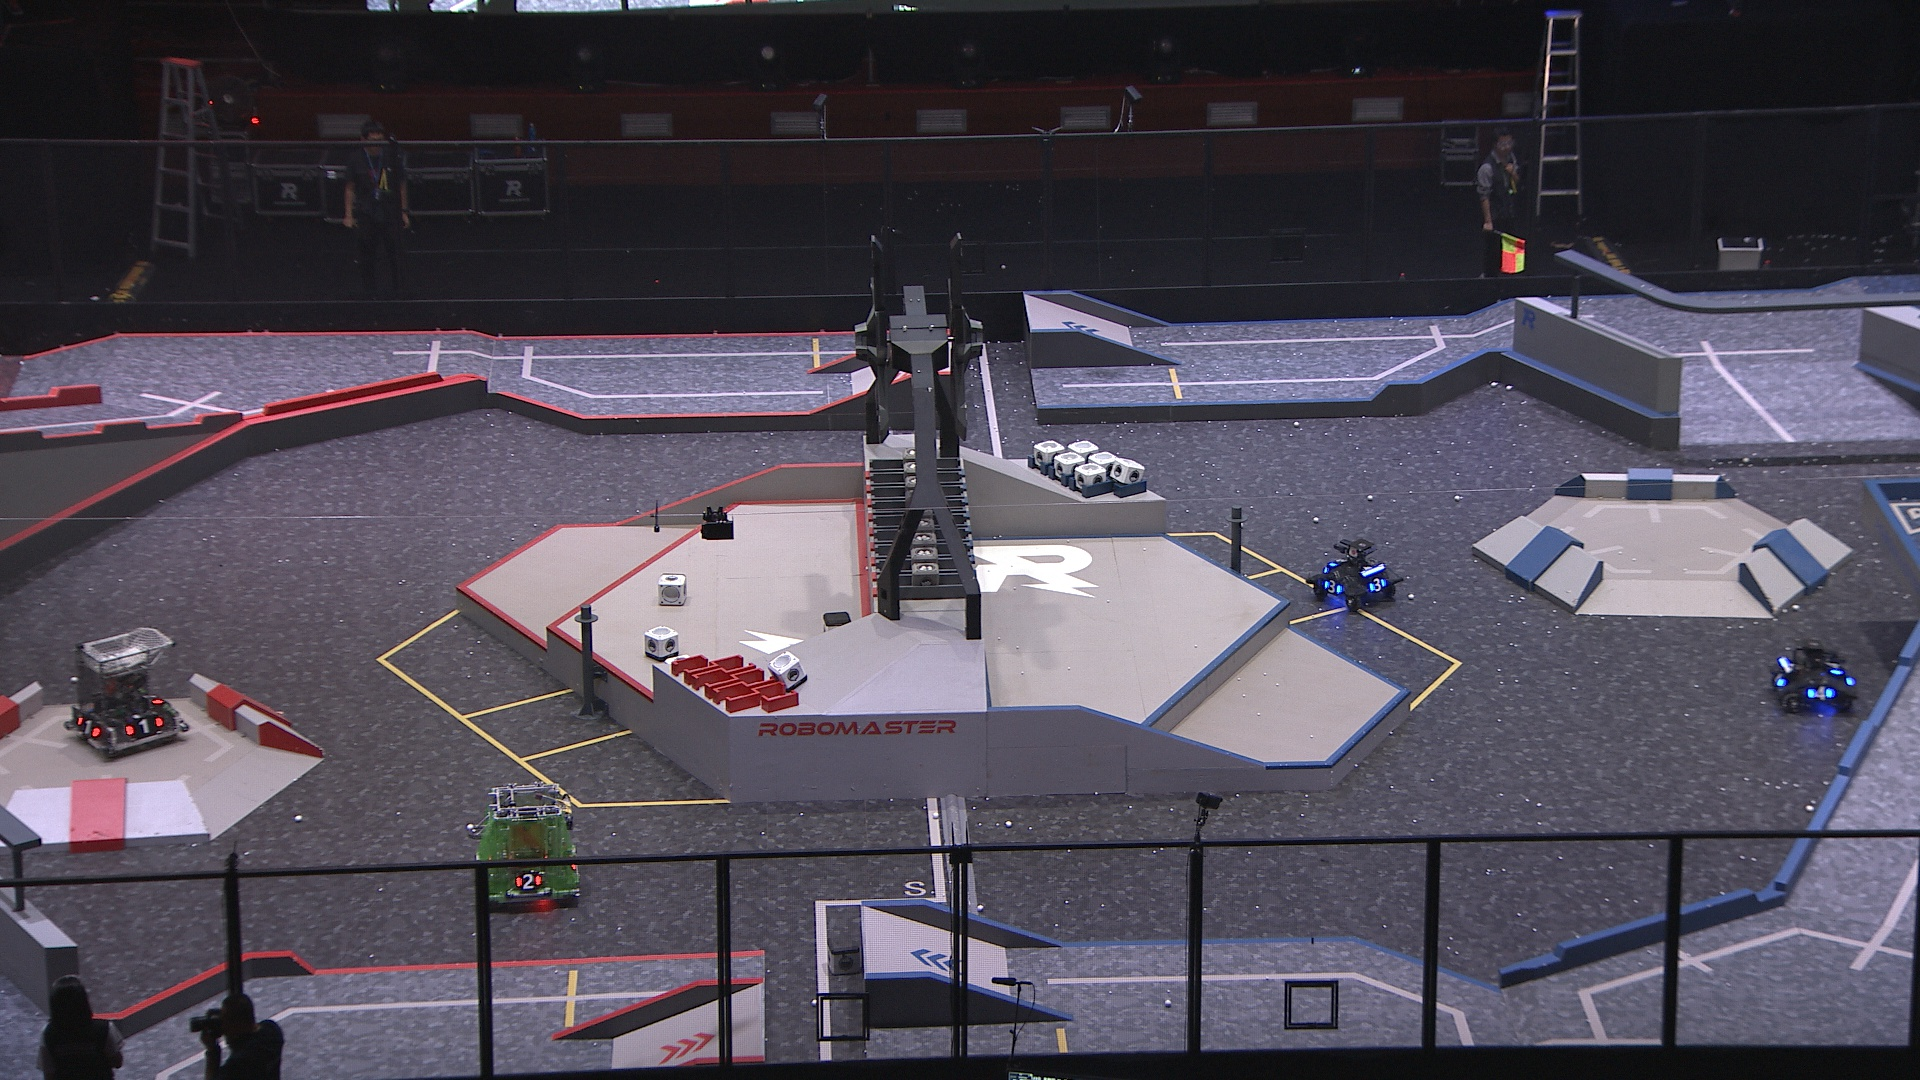armor: (123, 713, 164, 737), (74, 713, 102, 736), (1803, 683, 1836, 702), (513, 873, 542, 891), (1825, 655, 1844, 678), (138, 692, 166, 705), (1768, 669, 1788, 687), (1323, 578, 1344, 595), (1366, 578, 1387, 593), (1325, 555, 1349, 567)
car: (63, 624, 185, 760), (462, 778, 584, 909), (1305, 537, 1406, 613), (1766, 640, 1863, 716)
